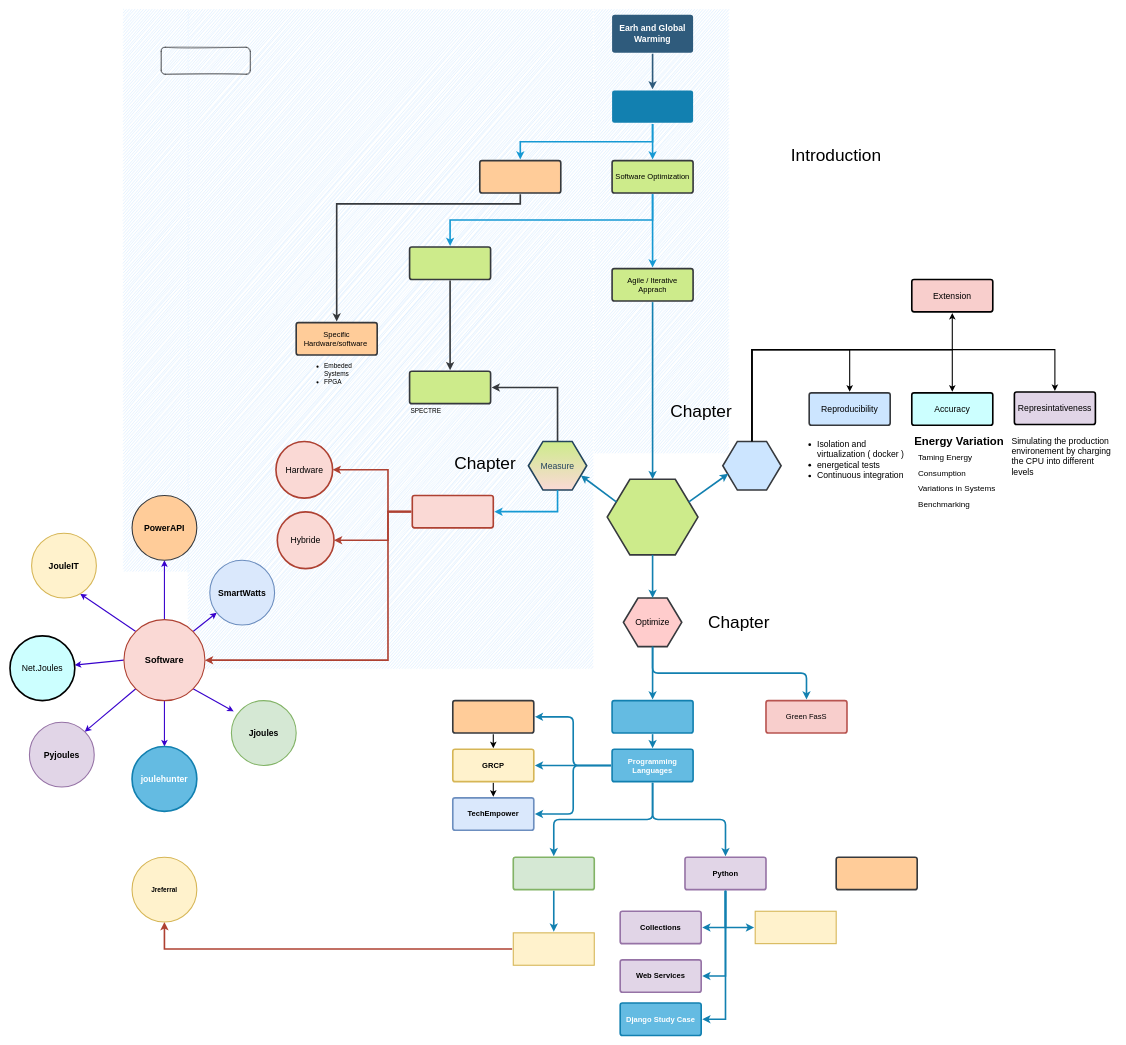
Some shapes in this 1126 by 1045 pixel diagram are drawn without their labels. The shapes that lost their labels are listed below. From the top down, each one's centre as x and y in pixels, then its label:
(x=205, y=60): State of The Art
(x=652, y=106): Sustainability in IT
(x=520, y=177): Hardware Optimization
(x=450, y=263): Formal Approach
(x=450, y=387): Static Analysers
(x=752, y=465): Test
(x=452, y=511): Real Time Analysers
(x=652, y=516): GREEN CODING
(x=493, y=717): GLBC
(x=652, y=717): Comparaison
(x=553, y=873): JAVA
(x=876, y=873): Haxe
(x=795, y=927): Interpreters/Transpilers
(x=553, y=949): Jvms
